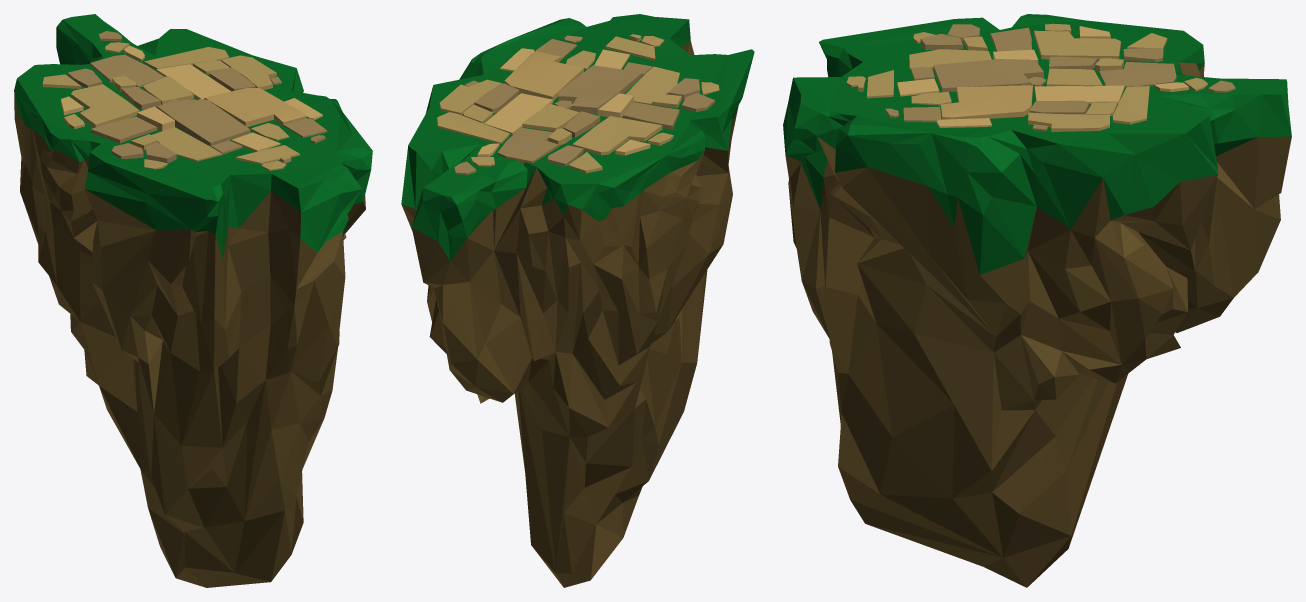
Rendered from ENV_Adventure_Island_02.fbx.
3 views of the same model, side by side, from view 1: azimuth 30°, elevation 25°; view 2: azimuth 150°, elevation 25°; view 3: azimuth 270°, elevation 25° (orthographic). The views are drawn at different scales.
Visible parts, largest first — view 1: ENV_Adventure_Island_02; view 2: ENV_Adventure_Island_02; view 3: ENV_Adventure_Island_02.
Boxes of the visible parts, box(x1,y1,x2,y2) form: ENV_Adventure_Island_02: box(14, 14, 372, 587); ENV_Adventure_Island_02: box(401, 14, 754, 587); ENV_Adventure_Island_02: box(783, 14, 1291, 587).
Size of the model in its own units: 3068 by 5425 by 4913.
